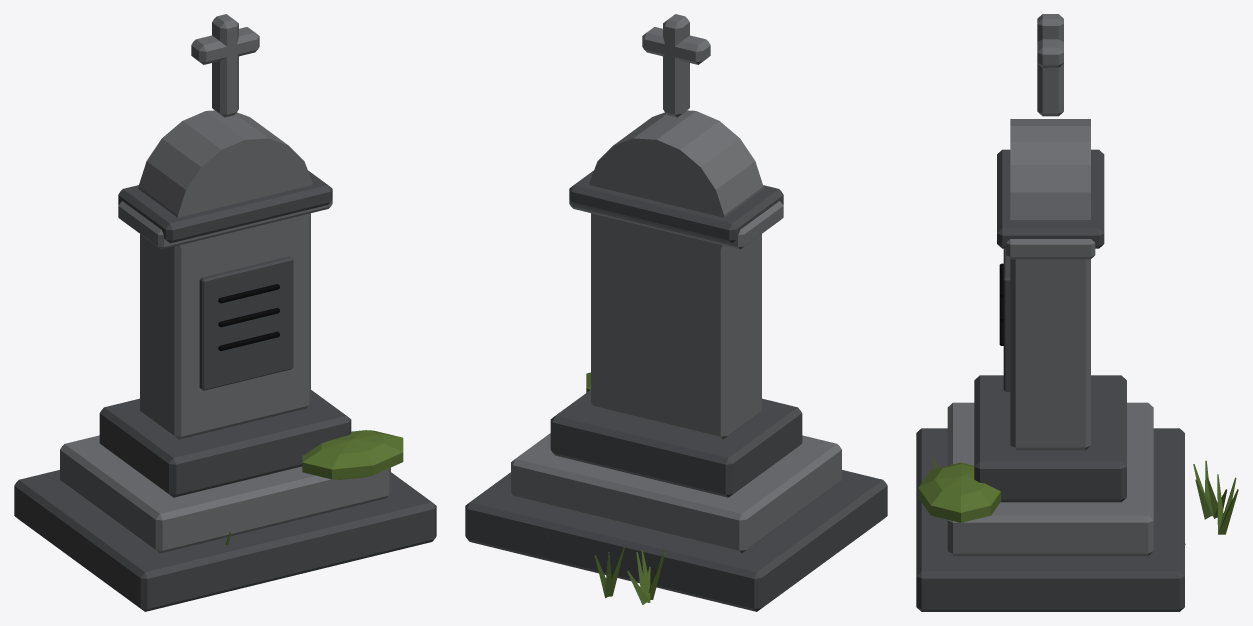
Rendered from monument.glb.
3 renders of one model, left to right at view 1: azimuth 30°, elevation 25°; view 2: azimuth 150°, elevation 25°; view 3: azimuth 270°, elevation 25°, orthographic. The views are drawn at different scales.
Visible parts, largest first — view 1: Monument; view 2: Monument; view 3: Monument.
Part boxes in pixels (x1,y1,x2,y2): Monument: [14, 14, 436, 611]; Monument: [465, 14, 887, 611]; Monument: [916, 14, 1238, 611].
Bounding box in the file's own units: 0.78 × 1.3 × 0.7198.
